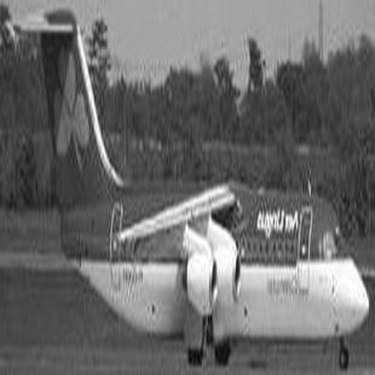airplane: (4, 3, 370, 371)
